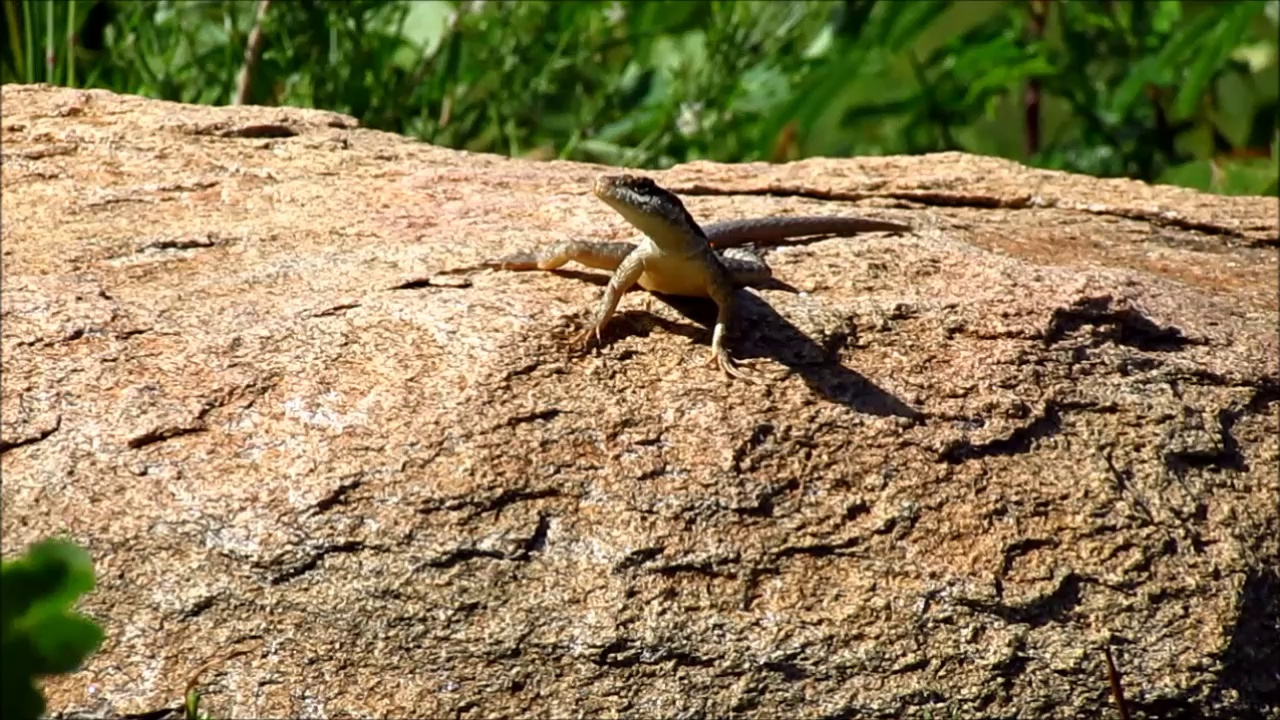body: (483, 217, 915, 382)
head: (595, 171, 685, 229)
